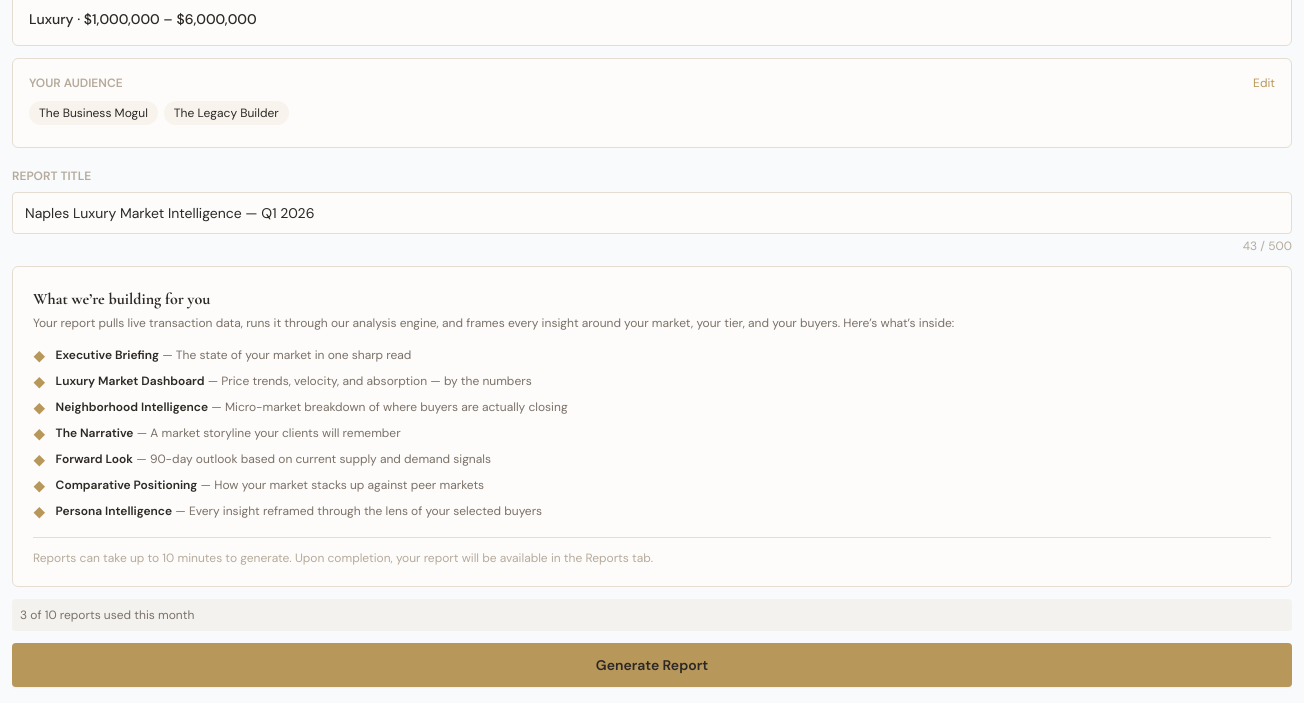
Scenario: Step 5: Review & Generate (#156) › StepYourReview › CMP-156-21: shows error on API failure
This screenshot has width=1304, height=703.
(page scrolled)
Click the button "Generate Report" at [652, 665], box [12,643,1292,687]
(page scrolled)
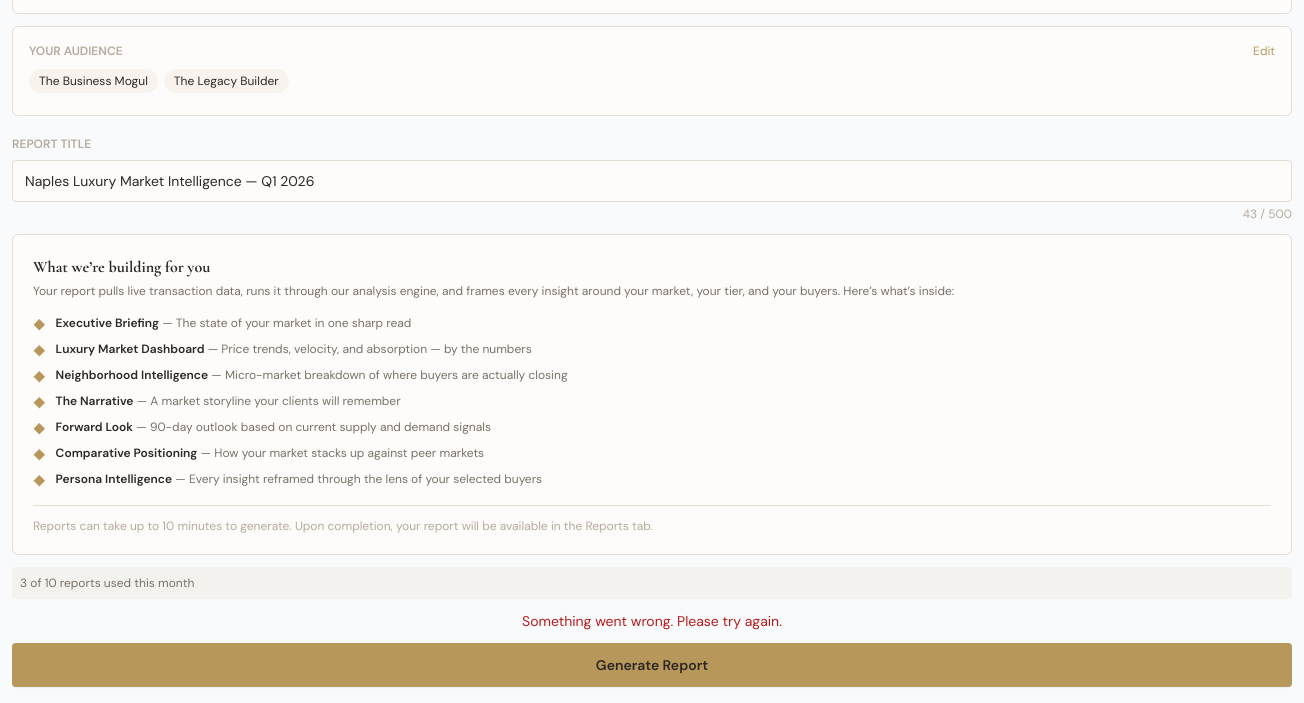
Expected: the text "Something went wrong. Please try again." is shown, [522,612,782,630]
